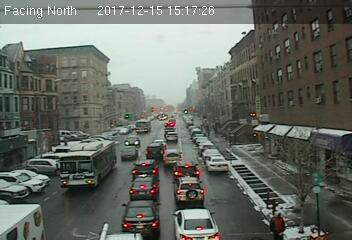bus: (58, 140, 116, 187)
car: (171, 206, 221, 240), (121, 200, 163, 235), (175, 178, 204, 207), (128, 177, 159, 199), (132, 160, 159, 177), (173, 160, 198, 178), (204, 156, 230, 173), (146, 144, 164, 160), (119, 145, 138, 160), (163, 149, 181, 164), (122, 136, 141, 146), (165, 131, 178, 141)
